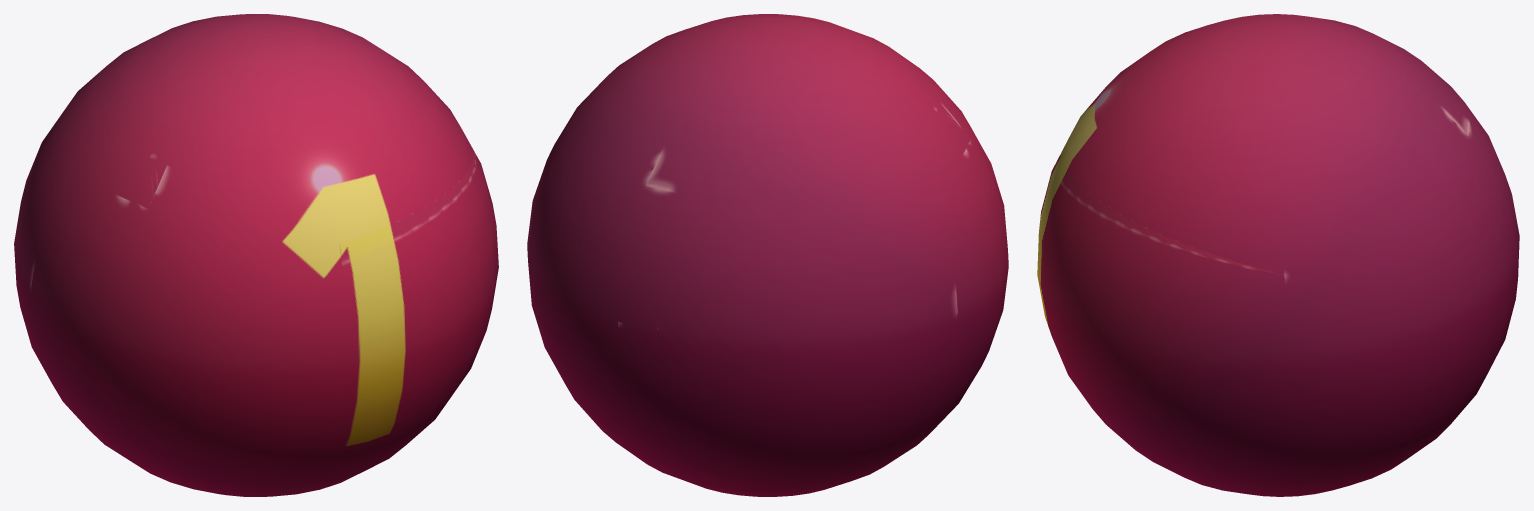
The model's file is Enemy 1.fbx.
3 views of the same model, side by side, from view 1: azimuth 30°, elevation 25°; view 2: azimuth 150°, elevation 25°; view 3: azimuth 270°, elevation 25° (orthographic).
Parts seen in each view (by area): view 1: Body 1; view 2: Body 1; view 3: Body 1.
Boxes of the visible parts, x1=… form: Body 1: x1=14, y1=14, x2=498, y2=496; Body 1: x1=527, y1=14, x2=1008, y2=496; Body 1: x1=1037, y1=14, x2=1519, y2=496.
Bounding box in the file's own units: 474 × 474 × 473.
Materials: 1 (1 with a texture image).
